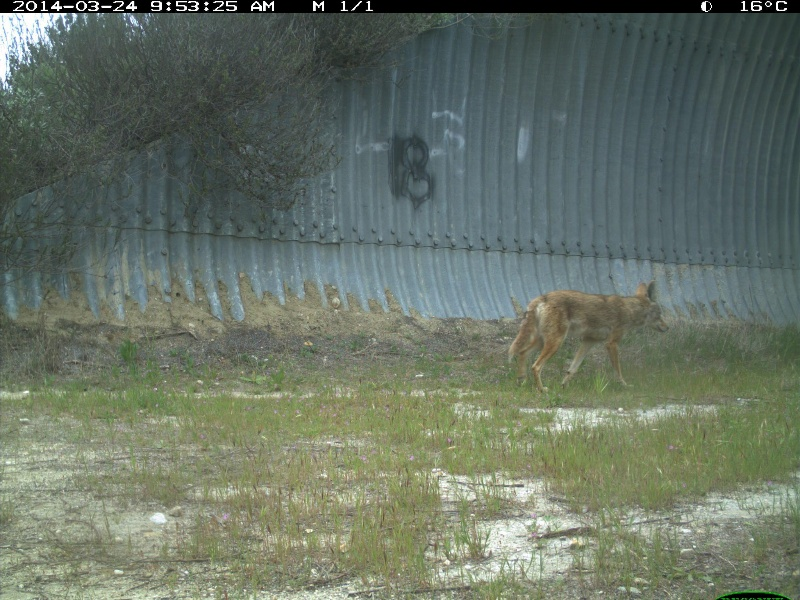coyote: (503, 279, 671, 394)
